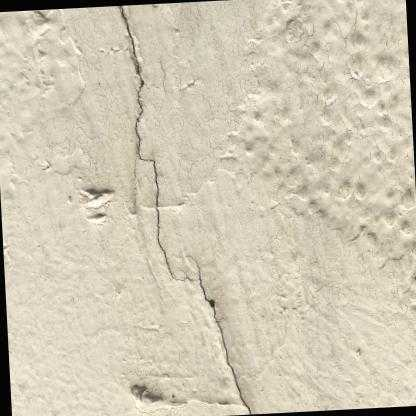crack: (116, 4, 251, 414)
